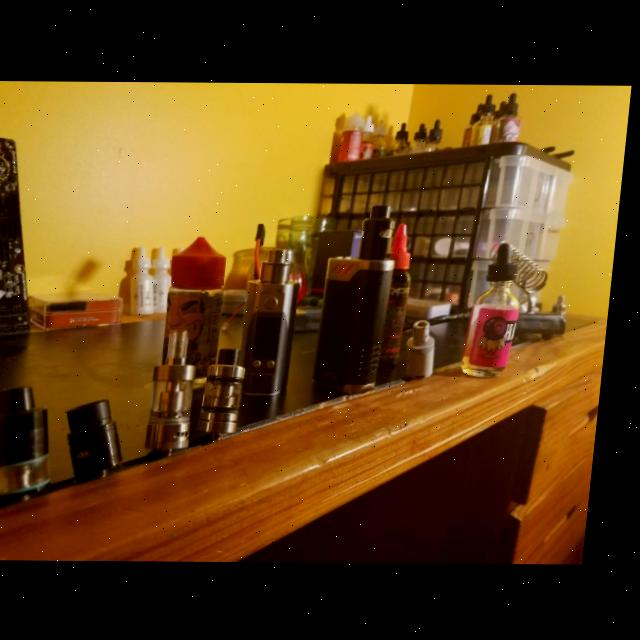vape: (320, 204, 406, 395), (244, 248, 309, 396), (0, 385, 70, 502), (154, 328, 209, 447), (69, 397, 138, 481), (203, 346, 253, 437), (409, 318, 446, 380)
